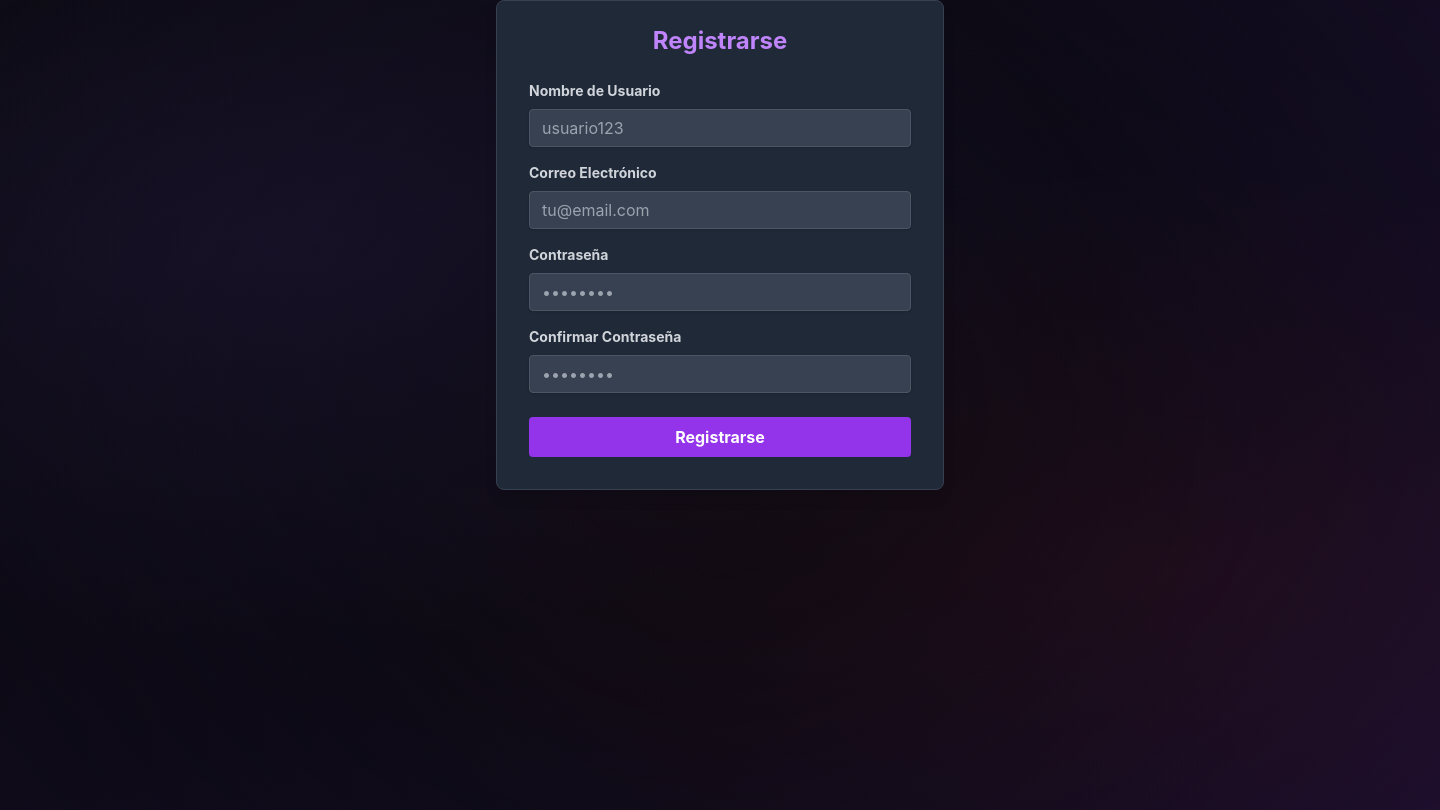
RegisterForm › validates password strength
Note: Enter weak password
Type "weak" into the password field labelled "Contraseña" at (720, 292), box left=529, top=273, right=911, bottom=311
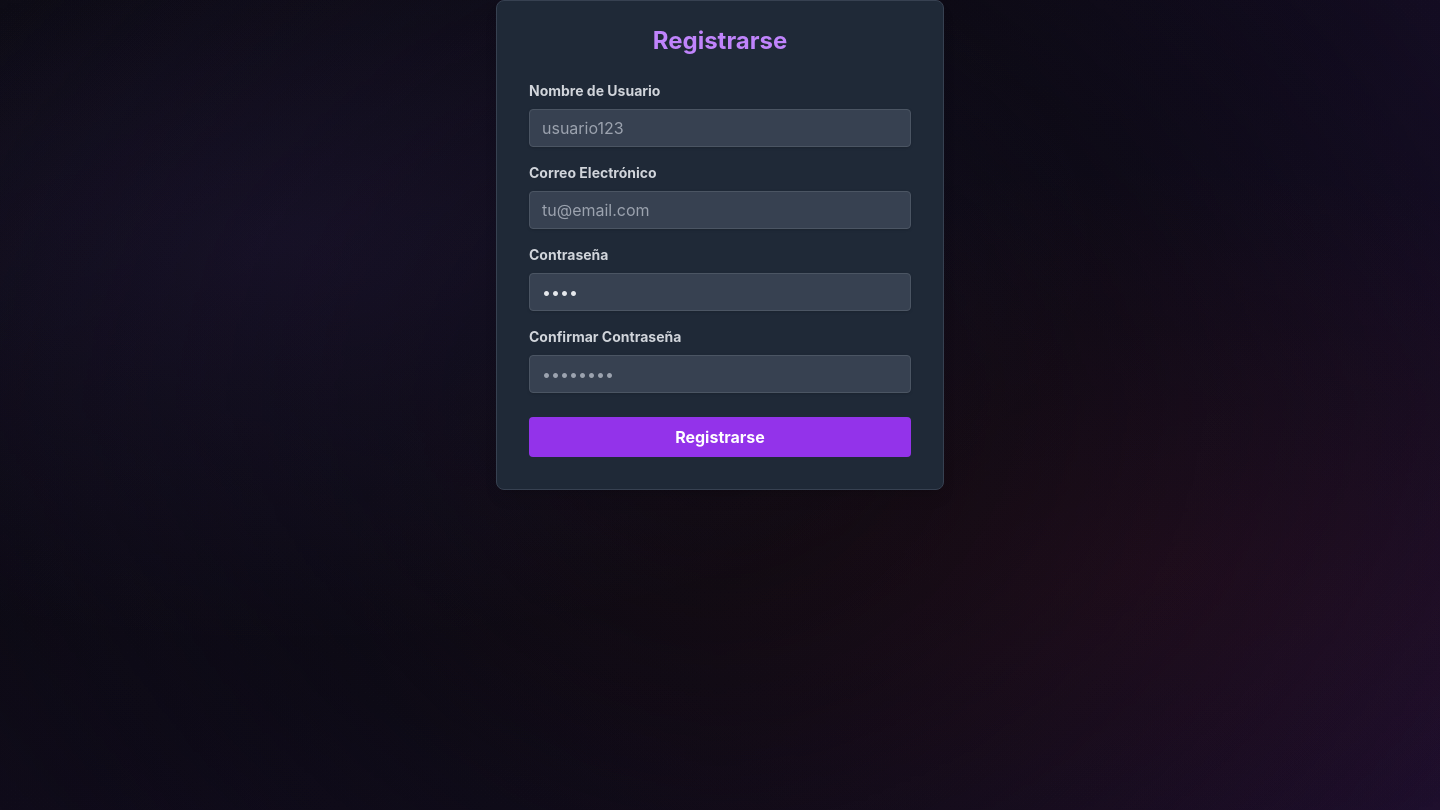
Click the button "Registrarse" at (720, 437), box left=529, top=417, right=911, bottom=457
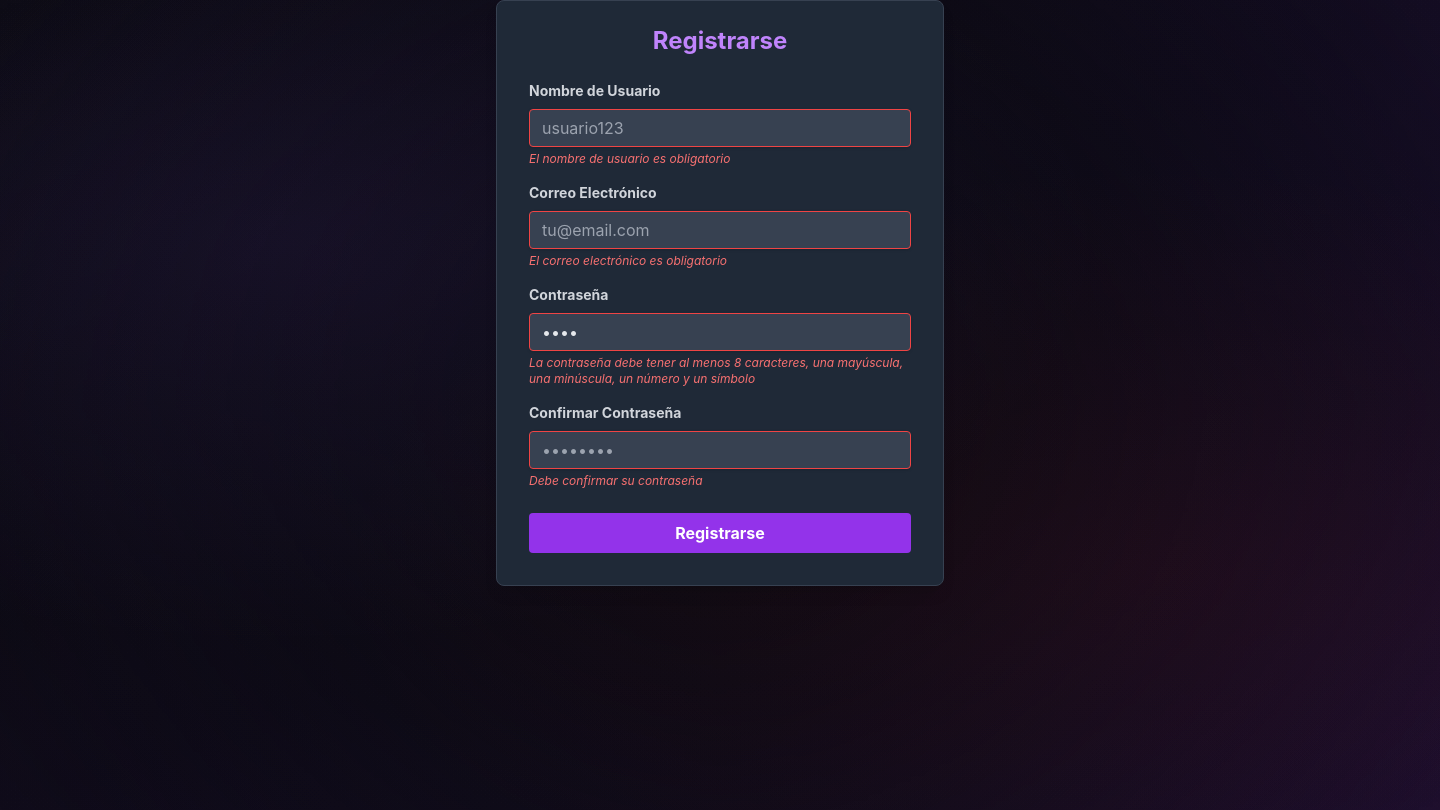
Expected: the text "debe tener al menos 8 caracteres" is shown, left=529, top=355, right=903, bottom=386
